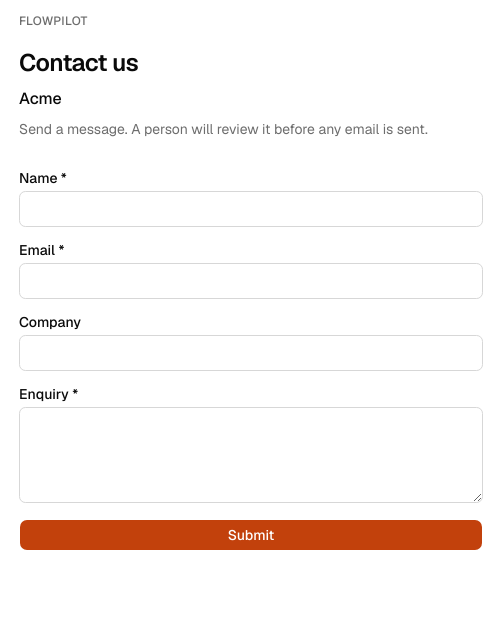
Test: hosted website enquiry capture › validates required fields before submit
Check: the heading "Contact us" is shown, box [19,47,138,78]
Check: the text "Acme" is shown, box [19,88,62,109]
Click the button "Submit": (251, 535) [19,519,483,551]
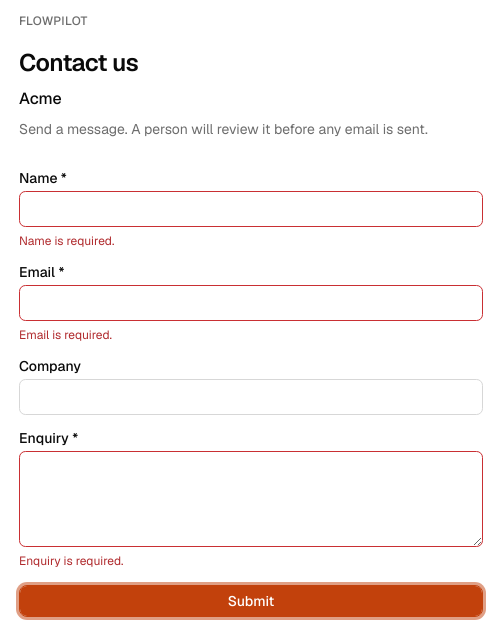
Check: the text "Name is required." is shown, box [19,233,114,249]
Check: the text "Email is required." is shown, box [19,327,112,343]
Check: the text "Enquiry is required." is shown, box [19,553,123,569]
